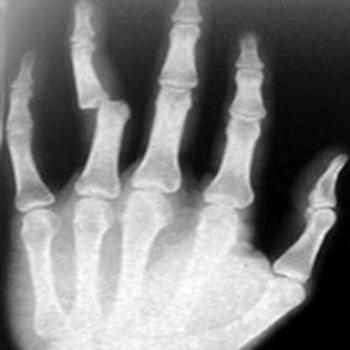Fracture: (76, 87, 134, 118)
